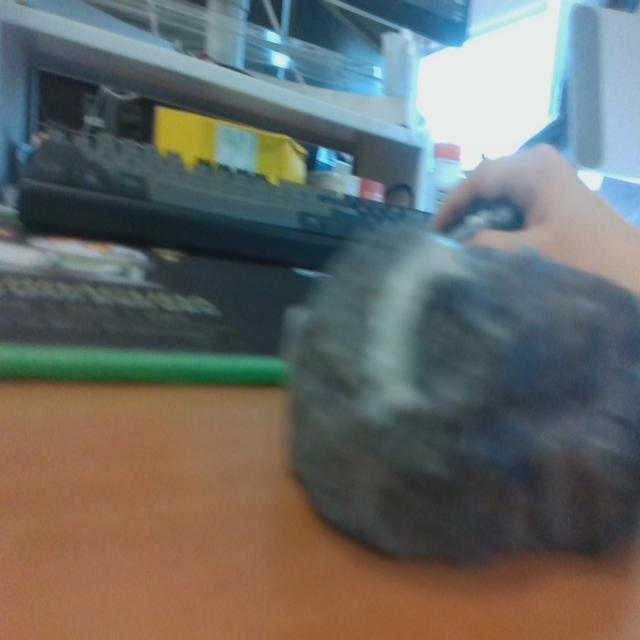stone: (278, 212, 640, 566)
